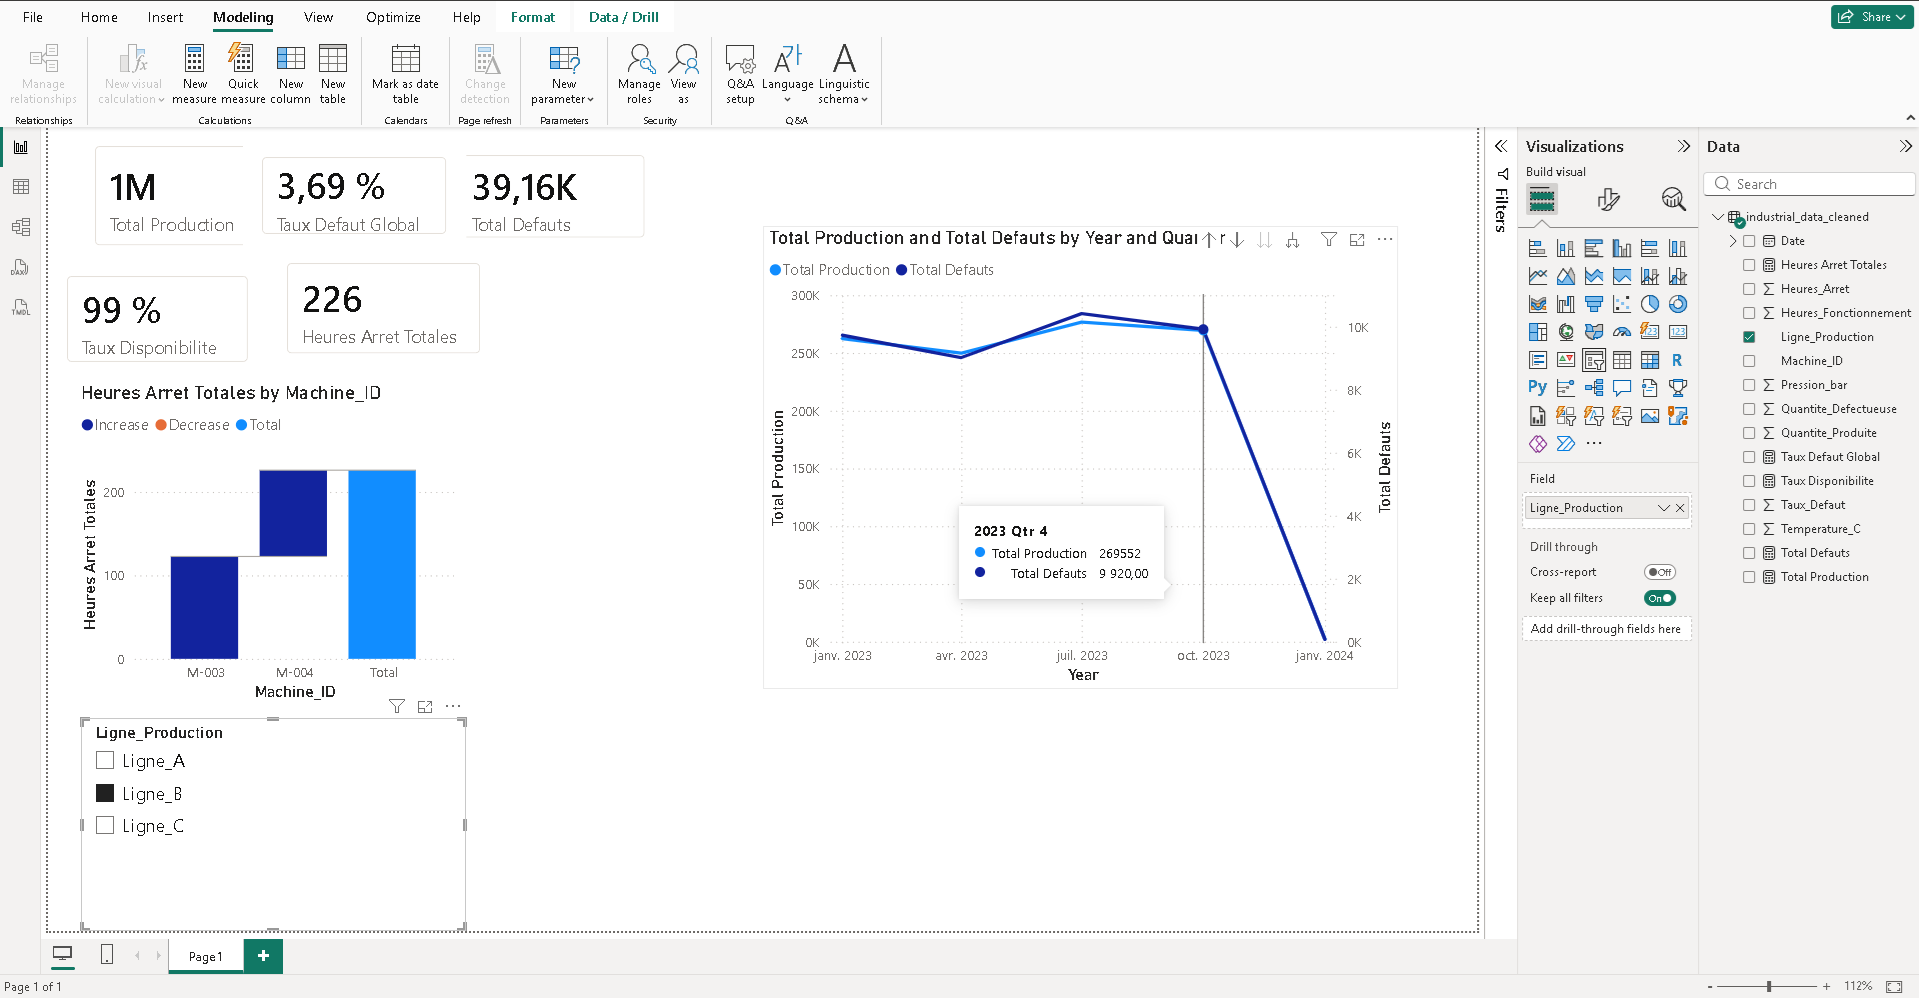

Layout of this report page (visuals, bound fields, positions):
{"tool":"powerbi","page":{"name":"Page 1","canvas":[1280,720],"ordinal":0},"visuals":[{"type":"cardVisual","fields":{"Data":["industrial_data_cleaned.Total Production"]},"box":[25.1,0,185.7,123.5],"z":0},{"type":"cardVisual","fields":{"Data":["industrial_data_cleaned.Taux Disponibilite"]},"box":[0,116.5,196.8,111.4],"z":1},{"type":"cardVisual","fields":{"Data":["industrial_data_cleaned.Total Defauts"]},"box":[349.4,8,202.8,108.4],"z":2},{"type":"cardVisual","fields":{"Data":["industrial_data_cleaned.Taux Defaut Global"]},"box":[174.7,10,199.8,103.4],"z":3},{"type":"cardVisual","fields":{"Data":["industrial_data_cleaned.Heures Arret Totales"]},"box":[196.8,104.4,207.8,115.5],"z":4},{"type":"lineChart","fields":{"Category":["industrial_data_cleaned.Date.Variation.Date Hierarchy.Year","industrial_data_cleaned.Date.Variation.Date Hierarchy.Quarter","industrial_data_cleaned.Date.Variation.Date Hierarchy.Month","industrial_data_cleaned.Date.Variation.Date Hierarchy.Day"],"Y":["industrial_data_cleaned.Total Production"],"Y2":["industrial_data_cleaned.Total Defauts"]},"box":[640.5,88.3,568.2,414.6],"z":5},{"type":"waterfallChart","fields":{"Category":["industrial_data_cleaned.Machine_ID"],"Y":["industrial_data_cleaned.Heures Arret Totales"]},"box":[24.1,227.9,345.3,291.1],"z":6},{"type":"slicer","fields":{"Values":["industrial_data_cleaned.Ligne_Production"]},"box":[29.1,529.1,345.3,190.7],"z":7}]}

Visuals, with their boxes on the page's 1280x720 design canvas (x1, y1, x2, y2). These are canvas units, not pixel positions in the 1919x998 screenshot, which may show the page scaled, cropped or inside an application window:
cardVisual - industrial_data_cleaned.Total Production: [x1=25, y1=0, x2=211, y2=124]
cardVisual - industrial_data_cleaned.Taux Disponibilite: [x1=0, y1=116, x2=197, y2=228]
cardVisual - industrial_data_cleaned.Total Defauts: [x1=349, y1=8, x2=552, y2=116]
cardVisual - industrial_data_cleaned.Taux Defaut Global: [x1=175, y1=10, x2=374, y2=113]
cardVisual - industrial_data_cleaned.Heures Arret Totales: [x1=197, y1=104, x2=405, y2=220]
lineChart - industrial_data_cleaned.Date.Variation.Date Hierarchy.Year x industrial_data_cleaned.Date.Variation.Date Hierarchy.Quarter: [x1=640, y1=88, x2=1209, y2=503]
waterfallChart - industrial_data_cleaned.Machine_ID x industrial_data_cleaned.Heures Arret Totales: [x1=24, y1=228, x2=369, y2=519]
slicer - industrial_data_cleaned.Ligne_Production: [x1=29, y1=529, x2=374, y2=720]
